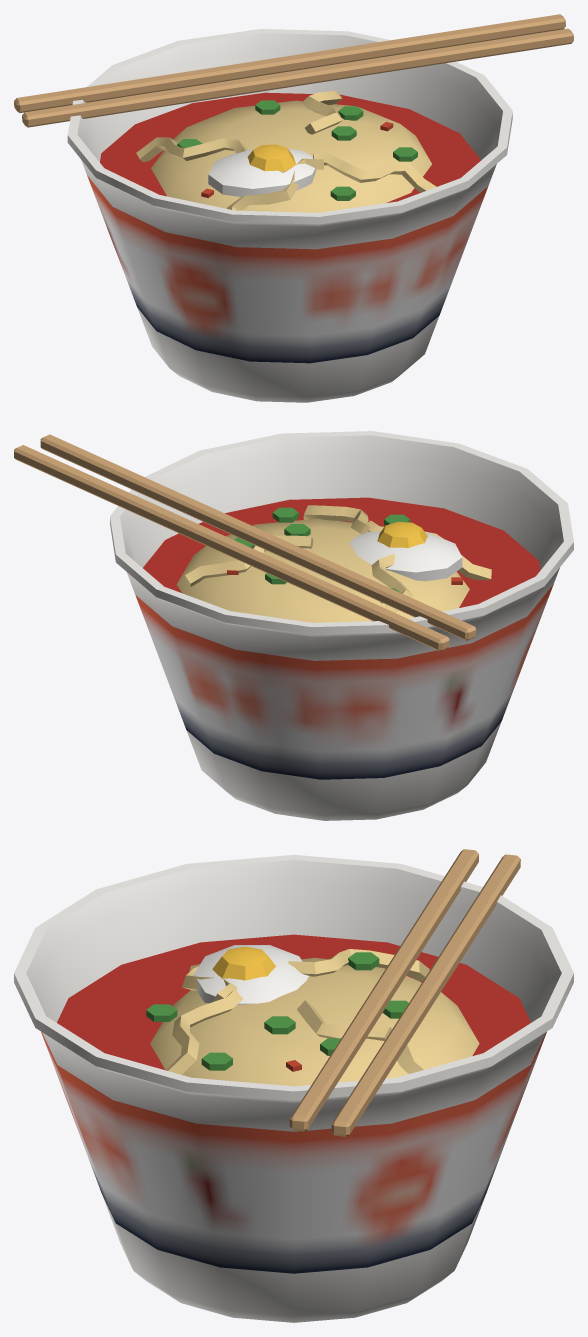
File: SC_Prod_Paper_Bowl_Ramen.gltf
3 views of the same model, one above another, from view 1: azimuth 30°, elevation 25°; view 2: azimuth 150°, elevation 25°; view 3: azimuth 270°, elevation 25° (orthographic). The views are drawn at different scales.
Parts seen in each view (by area): view 1: SC_Prod_Paper_Bowl_Ramen; view 2: SC_Prod_Paper_Bowl_Ramen; view 3: SC_Prod_Paper_Bowl_Ramen.
Part boxes in pixels (<box>): SC_Prod_Paper_Bowl_Ramen: <box>14,14,573,402</box>; SC_Prod_Paper_Bowl_Ramen: <box>14,431,573,820</box>; SC_Prod_Paper_Bowl_Ramen: <box>14,849,573,1322</box>.
Bounding box in the file's own units: 0.2033 × 0.0983 × 0.161.
Materials: 2 (2 with a texture image).
